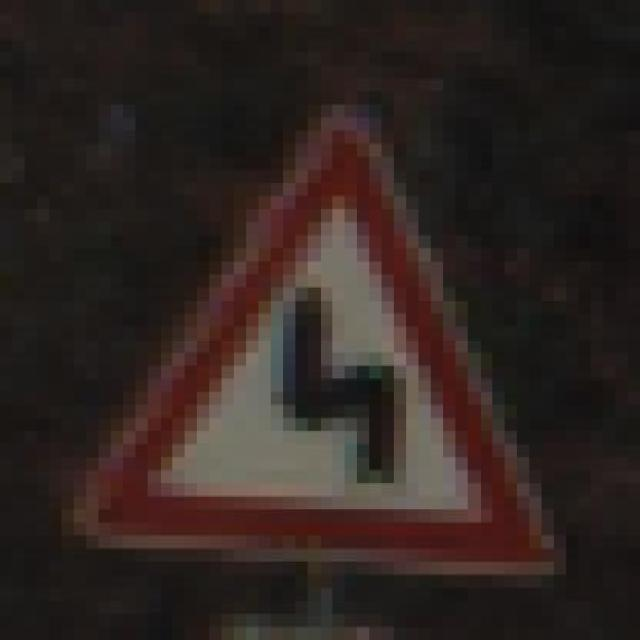Left Zig Zag Traffic: (65, 79, 570, 562)
